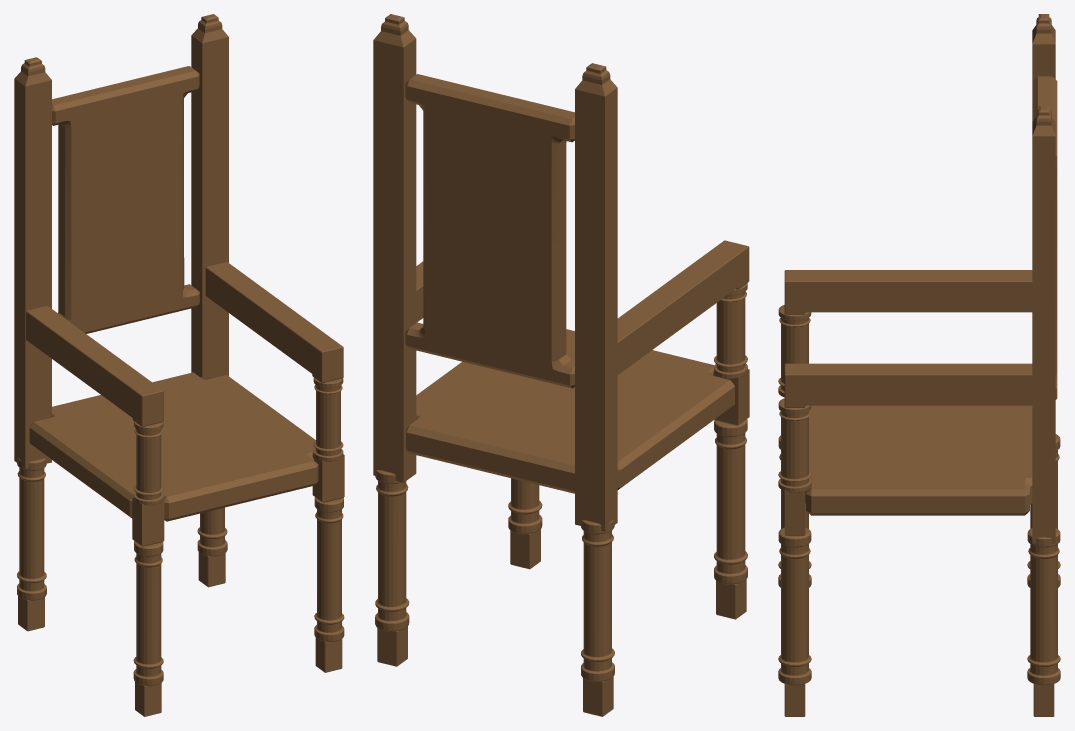
The model's file is retro_chair.fbx.
The picture shows the model from 3 angles, left to right: view 1: azimuth 30°, elevation 25°; view 2: azimuth 150°, elevation 25°; view 3: azimuth 270°, elevation 25°; orthographic projection. The views are drawn at different scales.
Parts seen in each view (by area): view 1: pCube24, pCube22, pCube13, pCube57, pCube26, pCube25, pCylinder27, pCylinder25, pCylinder28, pCylinder29, pCylinder30, pCube21 (+6 smaller); view 2: pCube24, pCube22, pCube13, pCube57, pCube25, pCylinder27, pCylinder25, pCylinder26, pCylinder29, pCylinder28, pCube16, pCube14 (+3 smaller); view 3: pCube22, pCube26, pCube25, pCube57, pCylinder28, pCylinder26, pCylinder30, pCube24, pCylinder29, pCube13, pCube18, pCube16 (+2 smaller).
Boxes of the visible parts, box(x1,y1,x2,y2) form: pCube24: box(52, 66, 199, 333); pCube22: box(29, 372, 318, 521); pCube13: box(14, 57, 51, 468); pCube57: box(191, 14, 228, 378); pCube26: box(205, 262, 343, 383); pCube25: box(26, 305, 163, 426); pCylinder27: box(133, 541, 163, 686); pCylinder25: box(17, 458, 46, 600); pCylinder28: box(314, 497, 344, 641); pCylinder29: box(133, 421, 163, 505); pCylinder30: box(313, 377, 343, 461); pCube21: box(132, 497, 164, 546); pCube24: box(405, 74, 574, 388); pCube22: box(406, 329, 734, 493); pCube13: box(575, 63, 617, 531); pCube57: box(373, 14, 416, 482); pCube25: box(617, 240, 749, 374); pCylinder27: box(714, 419, 747, 584); pCylinder25: box(581, 520, 614, 681); pCylinder26: box(375, 470, 409, 631); pCylinder29: box(714, 283, 747, 378); pCylinder28: box(508, 478, 542, 534); pCube16: box(377, 626, 407, 666); pCube14: box(583, 676, 613, 716); pCube22: box(805, 405, 1032, 515); pCube26: box(784, 363, 1032, 407); pCube25: box(784, 270, 1032, 314); pCube57: box(1032, 106, 1055, 543); pCylinder28: box(778, 527, 811, 685); pCylinder26: box(1027, 528, 1060, 685); pCylinder30: box(778, 398, 811, 492); pCube24: box(1033, 76, 1057, 399); pCylinder29: box(778, 305, 811, 397); pCube13: box(1032, 14, 1055, 121); pCube18: box(784, 490, 805, 535); pCube16: box(1033, 684, 1054, 716).
Bounding box in the file's own units: 41.87 × 110 × 46.55.
